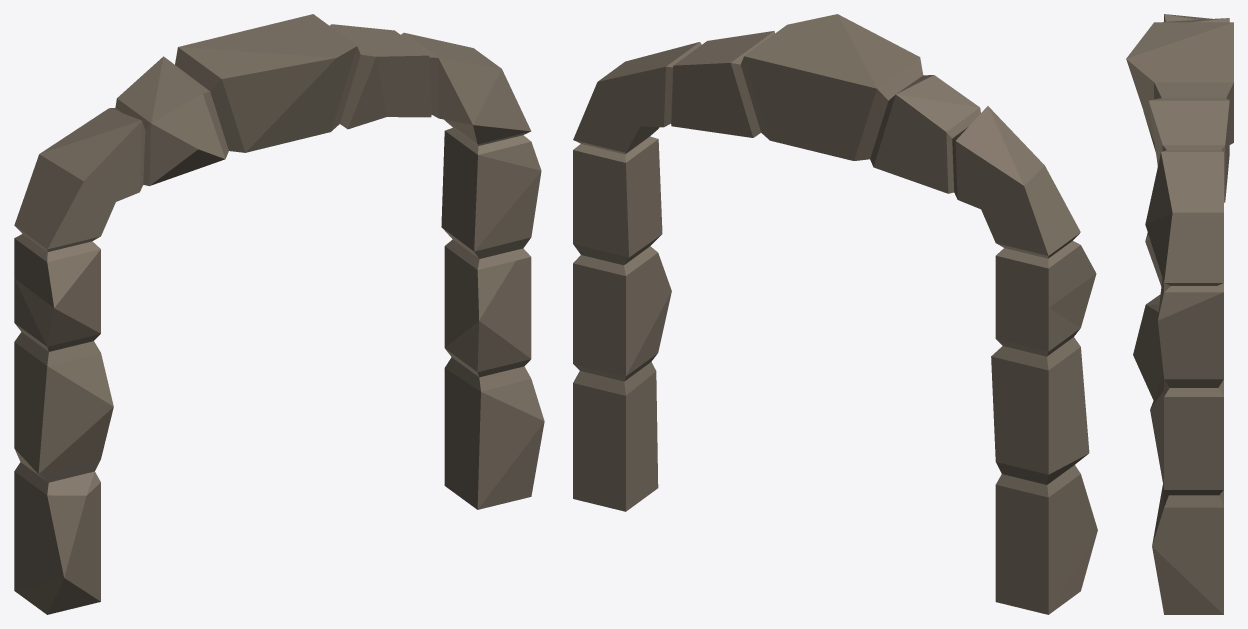
Rendered from Cave_Arch_01.fbx.
3 views of the same model, side by side, from view 1: azimuth 30°, elevation 25°; view 2: azimuth 150°, elevation 25°; view 3: azimuth 270°, elevation 25° (orthographic). The views are drawn at different scales.
Parts seen in each view (by area): view 1: pCube6; view 2: pCube6; view 3: pCube6.
Part boxes in pixels (x1,y1,x2,y2): pCube6: (14,14,544,614); pCube6: (573,14,1097,614); pCube6: (1126,14,1233,614).
Bounding box in the file's own units: 666 × 646 × 137.
